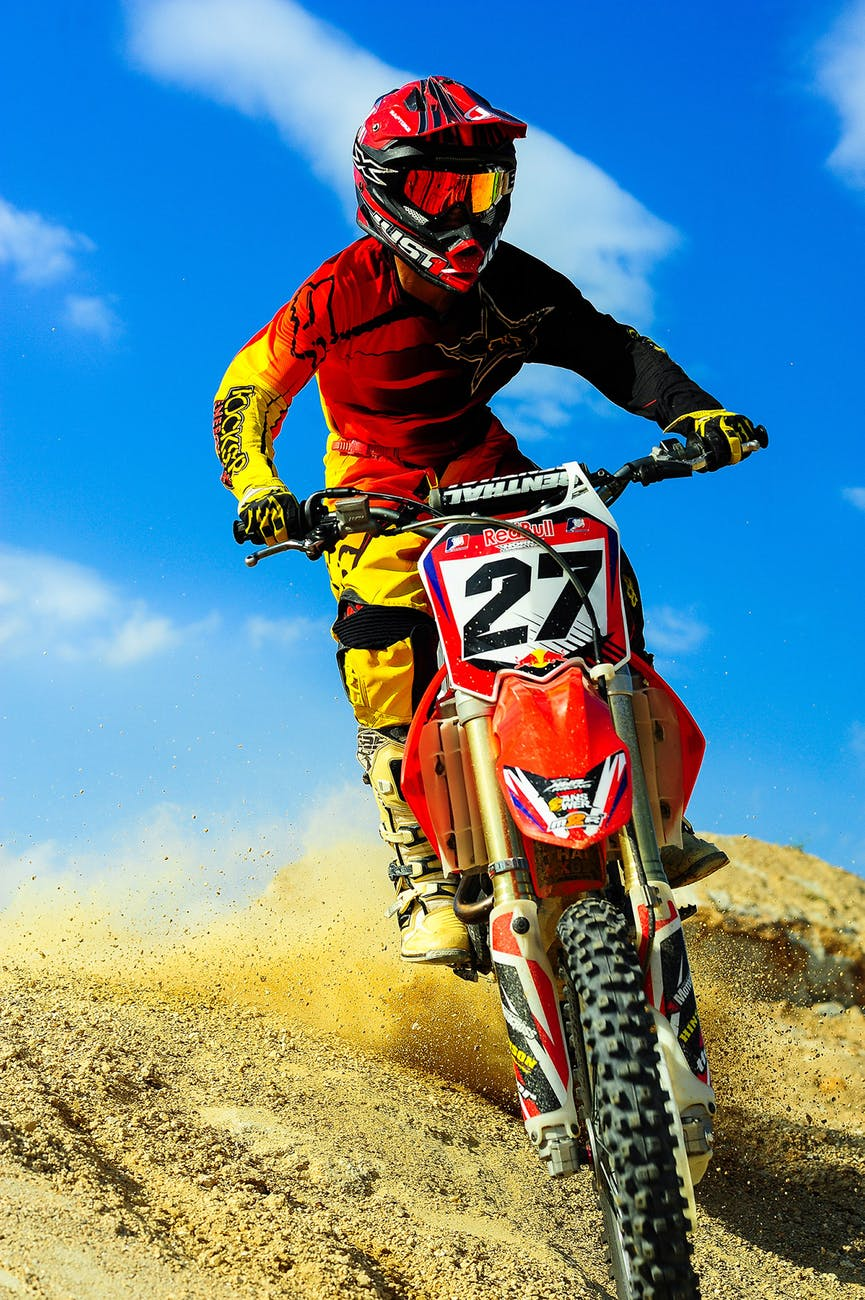helmet: (353, 71, 529, 287)
